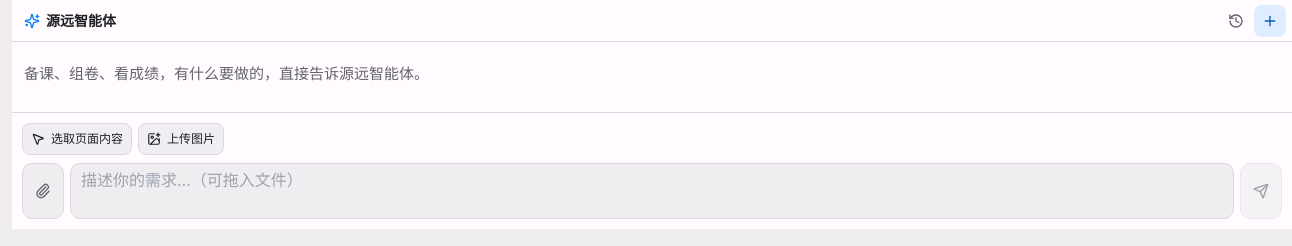
AgentChatPanel › renders chat and history without loading quick starts
The width and height of the screenshot is (1292, 246).
Expected: the text "源远智能体" is shown, top-left (46, 10), bottom-right (116, 31)
Expected: the text box is shown, top-left (70, 163), bottom-right (1234, 219)
Click the button named "历史" at (1236, 20), box top-left (1220, 4), bottom-right (1252, 36)
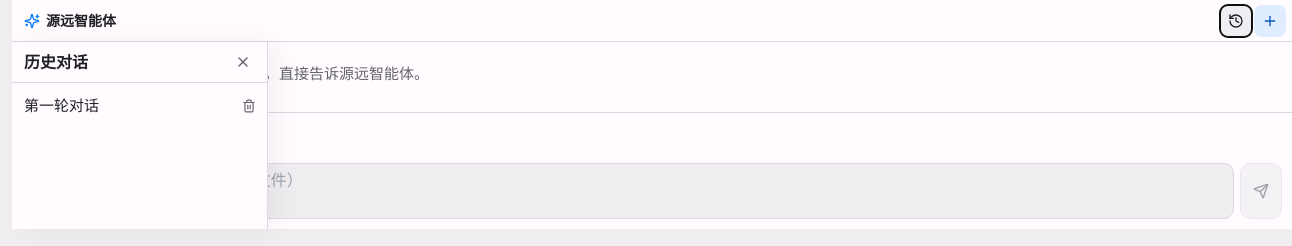
Expected: the button "第一轮对话" is shown, top-left (12, 87), bottom-right (235, 126)
Press Escape
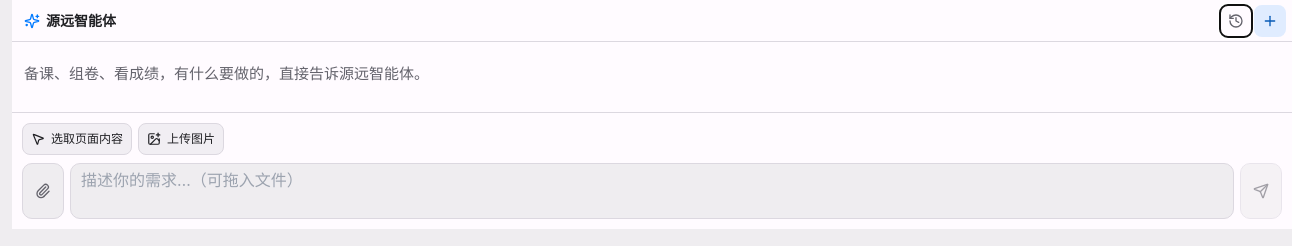
Expected: the text "历史对话" is gone
